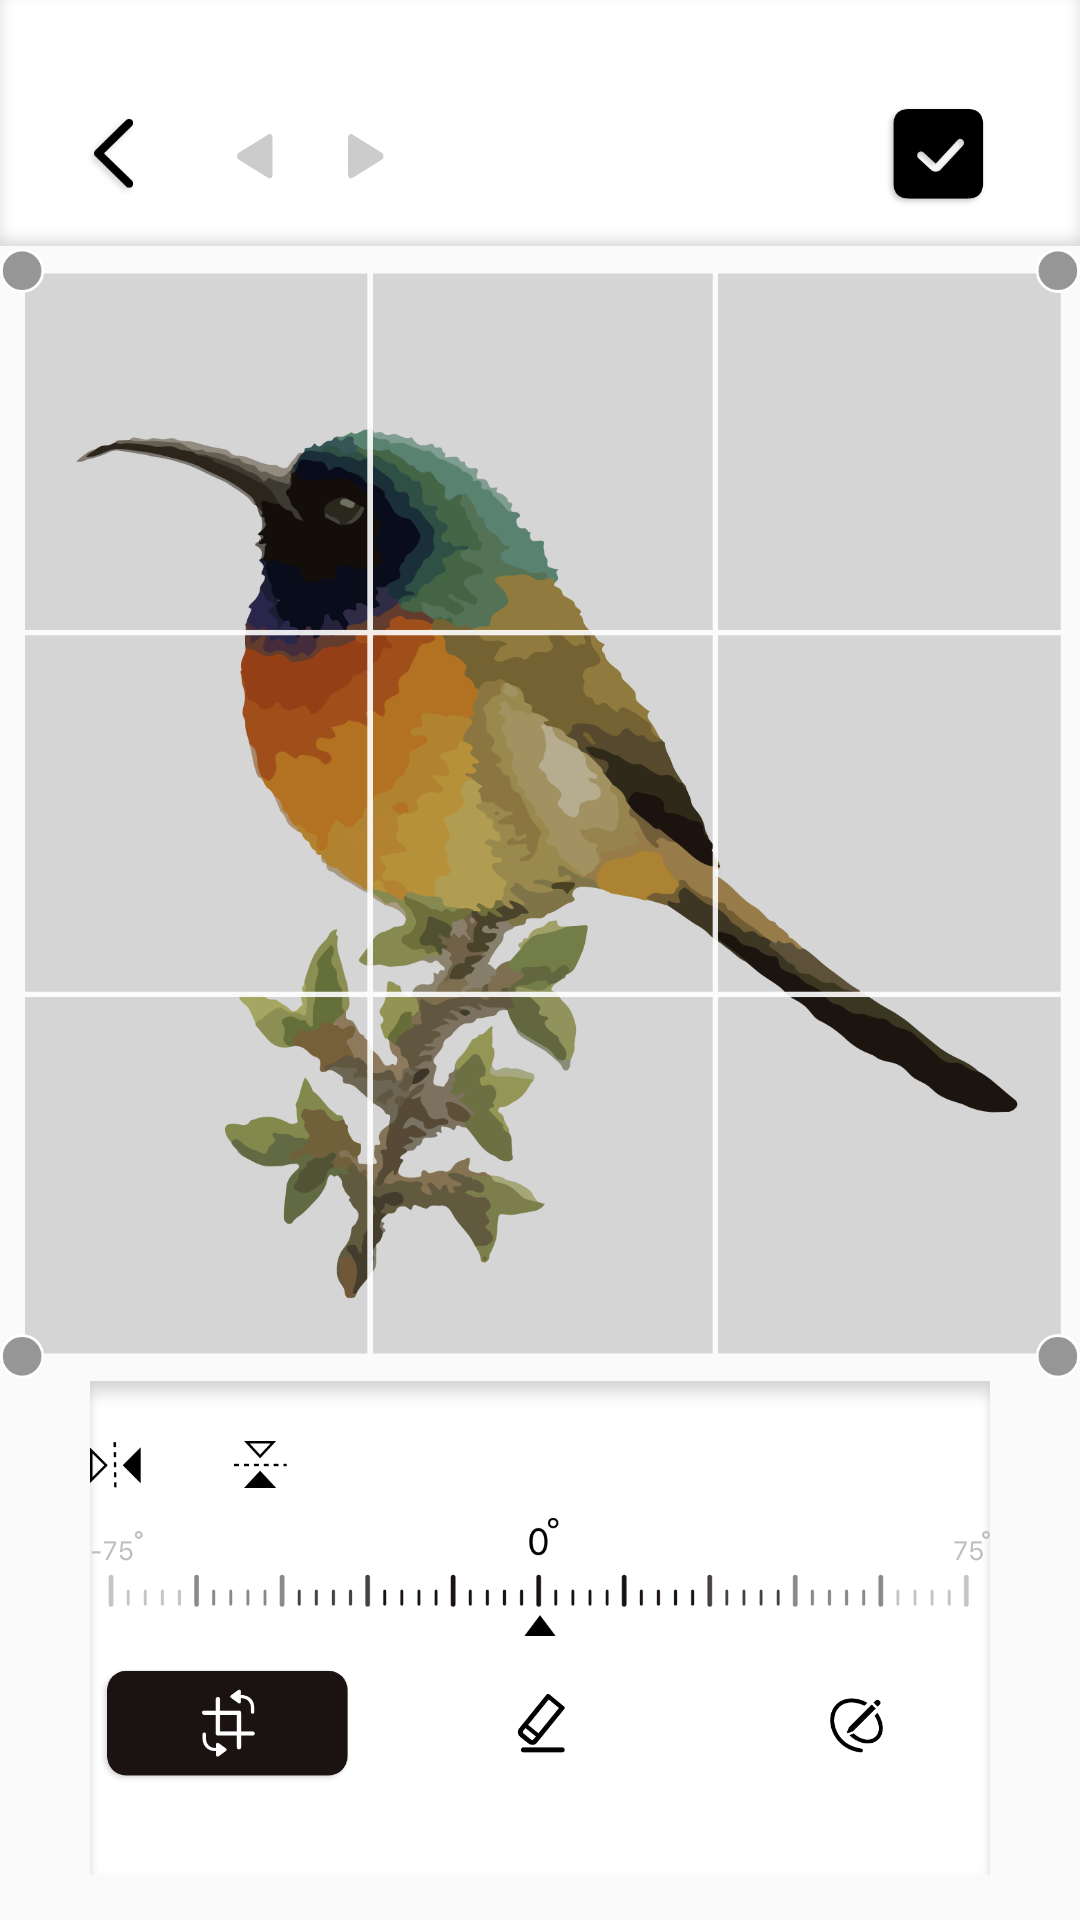

Locate icon controls on the screen. Image size 1080×1920, boxes as (x1, y1, x2, y2).
back: (93, 119, 134, 188)
draw: (830, 1698, 883, 1753)
eraser: (517, 1694, 565, 1753)
okay: (891, 109, 984, 201)
symmetric: (234, 1441, 287, 1488), (90, 1442, 141, 1488)
